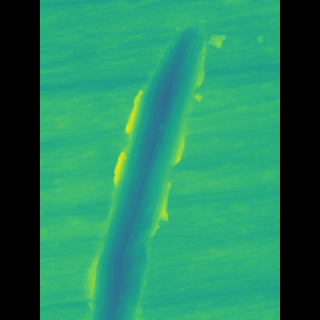Loch: (101, 15, 203, 320)
